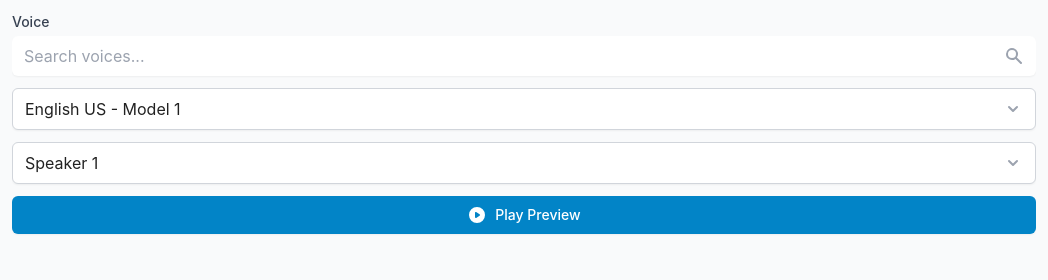
Test case: VoiceSelector Component › opens model dropdown when clicked
This screenshot has width=1048, height=280.
Click the model dropdown button
Click the button "English US - Model 1" at (103, 109), box x1=12 y1=88 x2=1036 y2=130
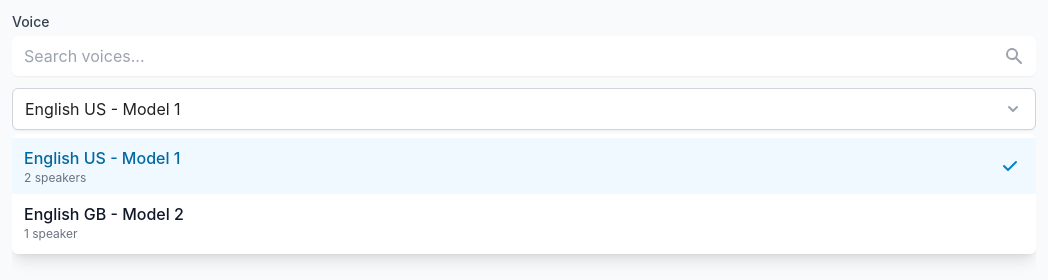
Check: the text "English GB - Model 2" is shown, box x1=24 y1=204 x2=184 y2=224
